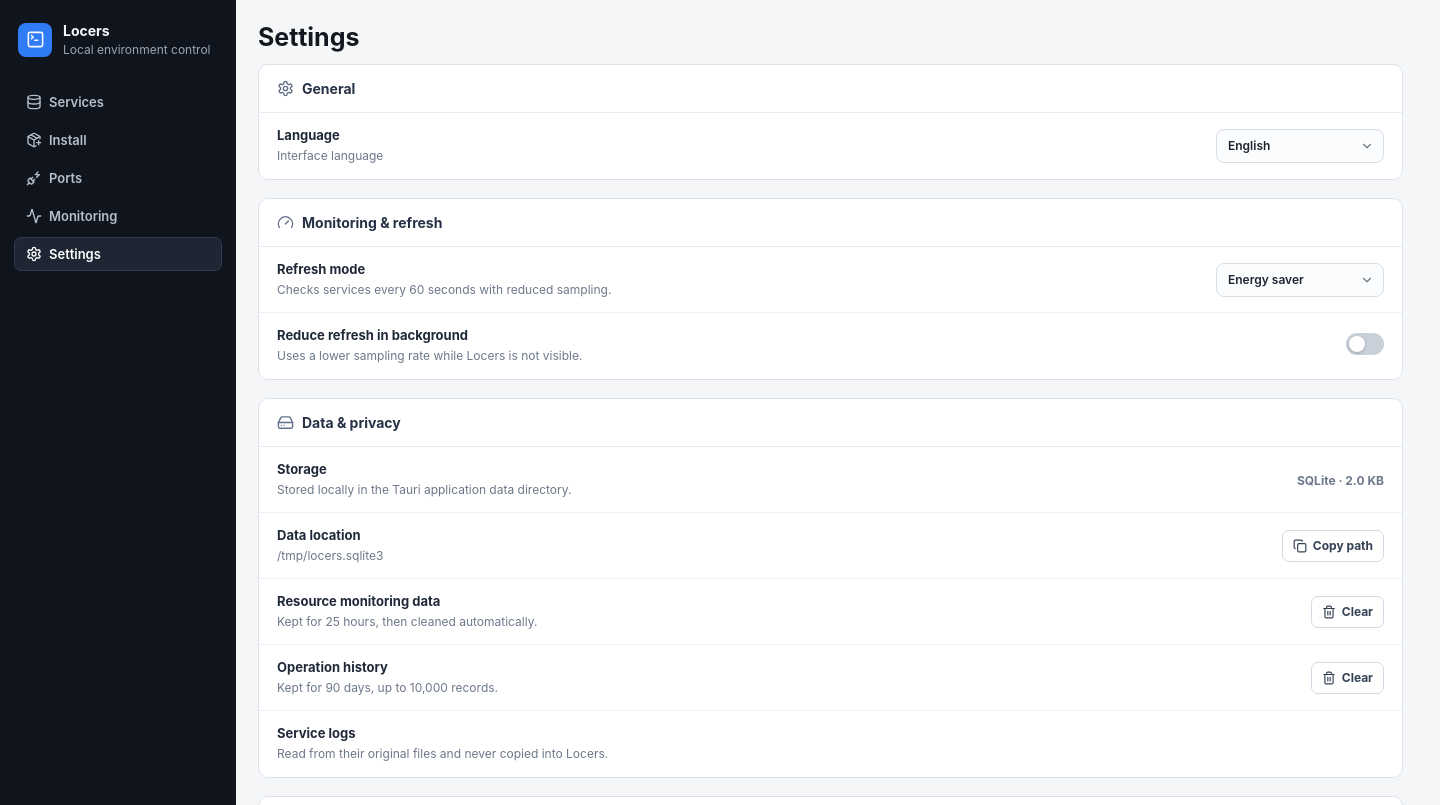
it: App › requires confirmation before clearing monitoring data
This screenshot has width=1440, height=805.
Click the button "Clear" in the row of "Resource monitoring data".
click(1347, 612)  # box [1311,596,1384,628]
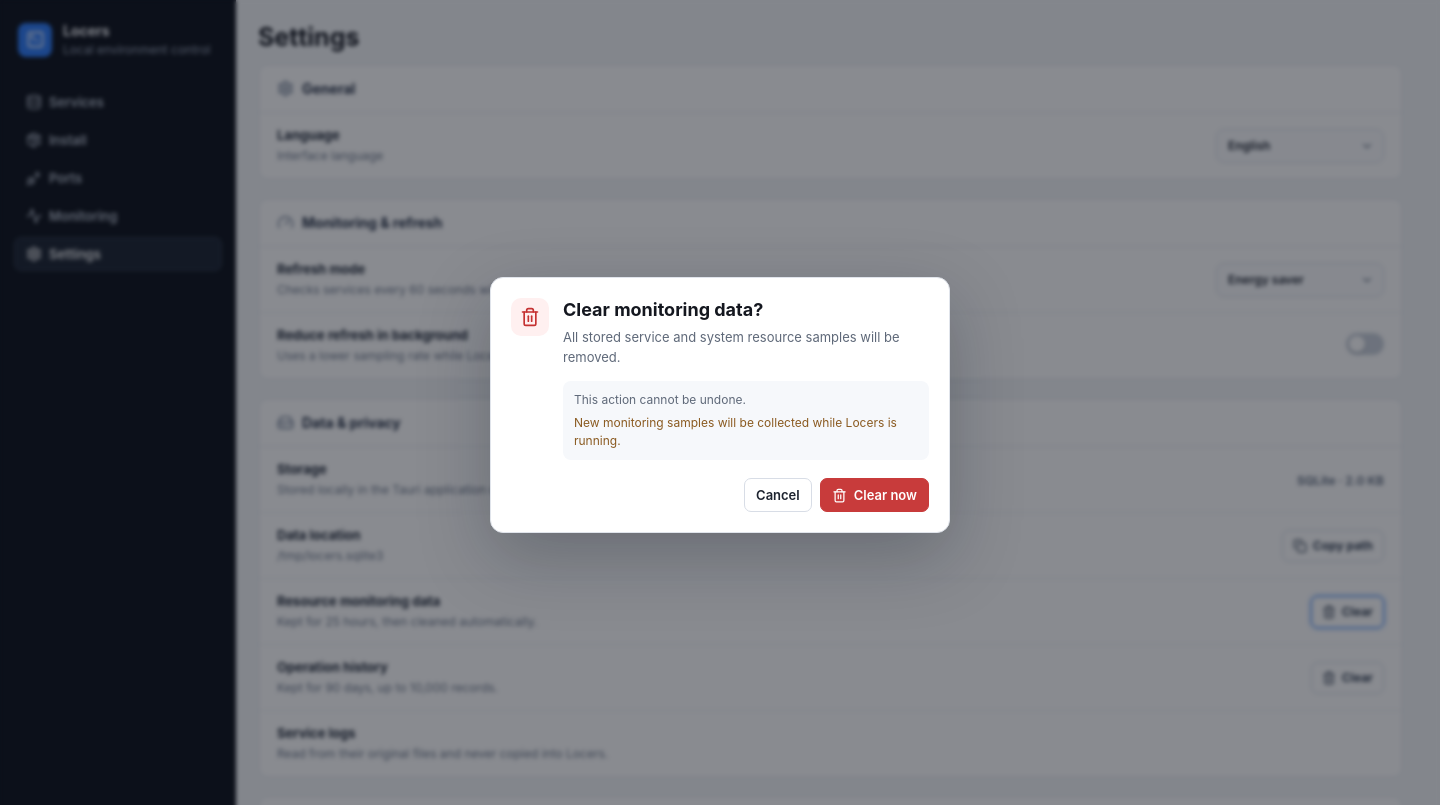
Expected: the dialog "Clear monitoring data?" is shown, [490,277,950,533]
Click the button "Clear now".
click(874, 495)  # box [820,478,929,512]
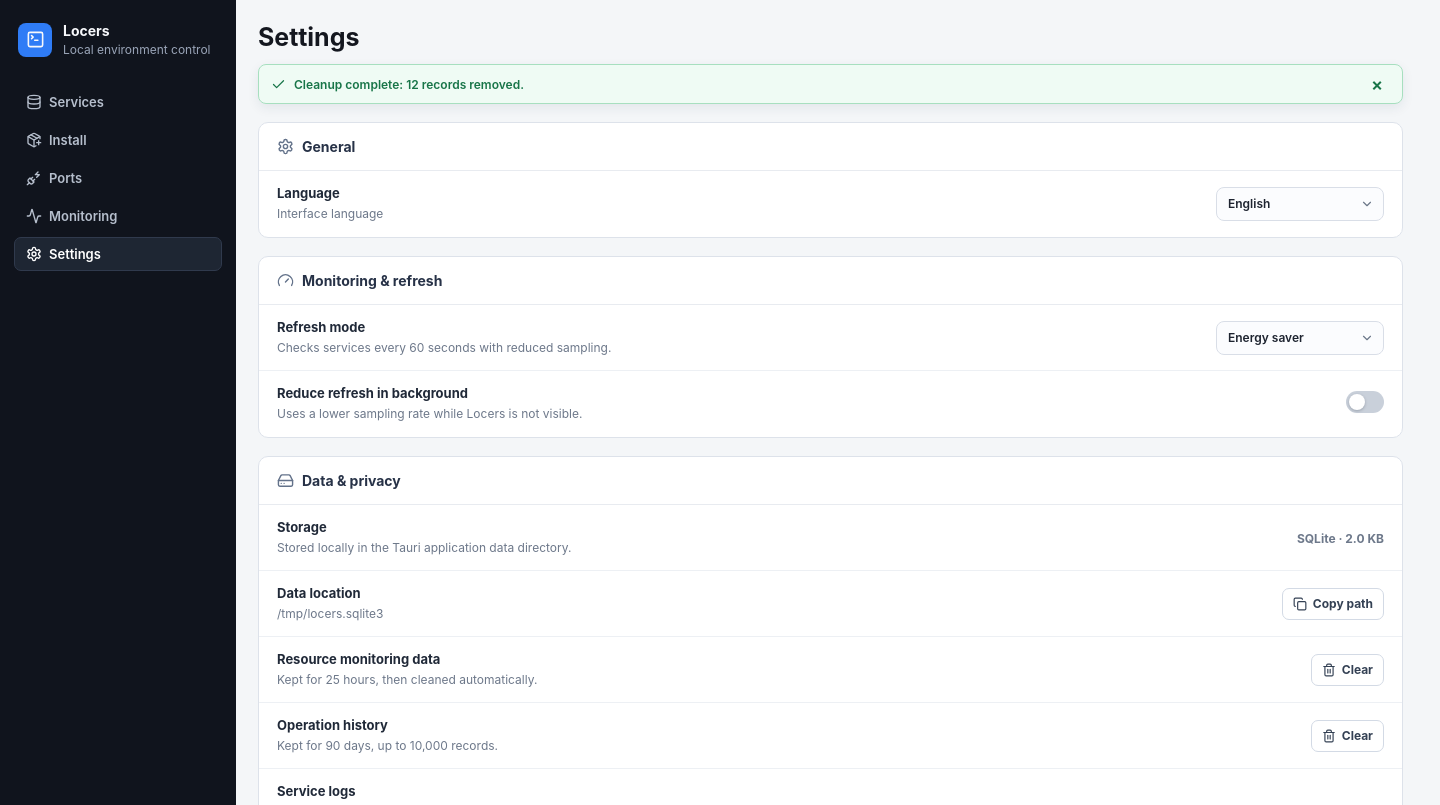
Expected: the text "Cleanup complete: 12 records removed." is shown, [294,76,524,92]
